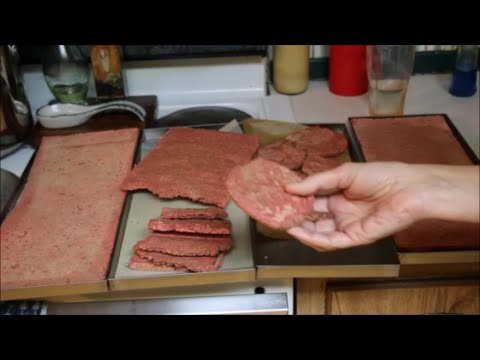ground_beef: (1, 125, 148, 310), (134, 126, 265, 224), (217, 150, 327, 232)
